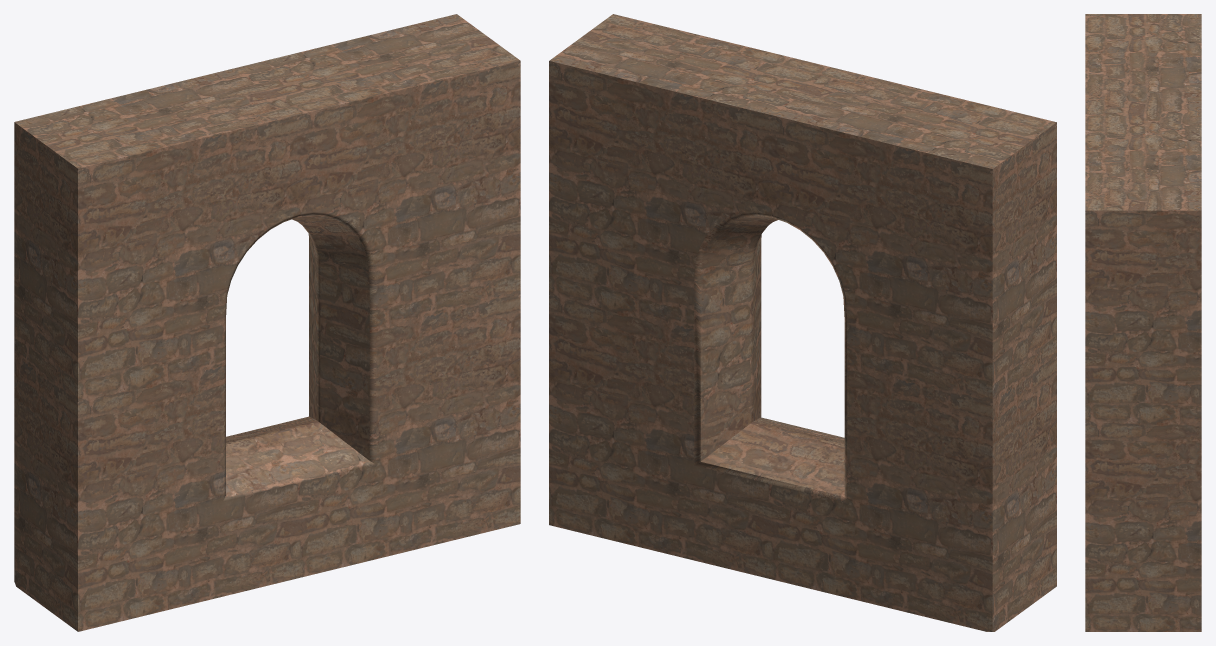
File: Wall_BigWindow.fbx
3 renders of one model, left to right at view 1: azimuth 30°, elevation 25°; view 2: azimuth 150°, elevation 25°; view 3: azimuth 270°, elevation 25°, orthographic. The views are drawn at different scales.
Visible parts, largest first — view 1: Wall_BigWindow_LOD0; view 2: Wall_BigWindow_LOD0; view 3: Wall_BigWindow_LOD0.
Part boxes in pixels (box(x1,y1,x2,y2)): Wall_BigWindow_LOD0: box(14, 14, 520, 631); Wall_BigWindow_LOD0: box(549, 14, 1056, 631); Wall_BigWindow_LOD0: box(1085, 14, 1201, 631).
Size of what is drawn, in the model's own units: 400 by 400 by 100.
